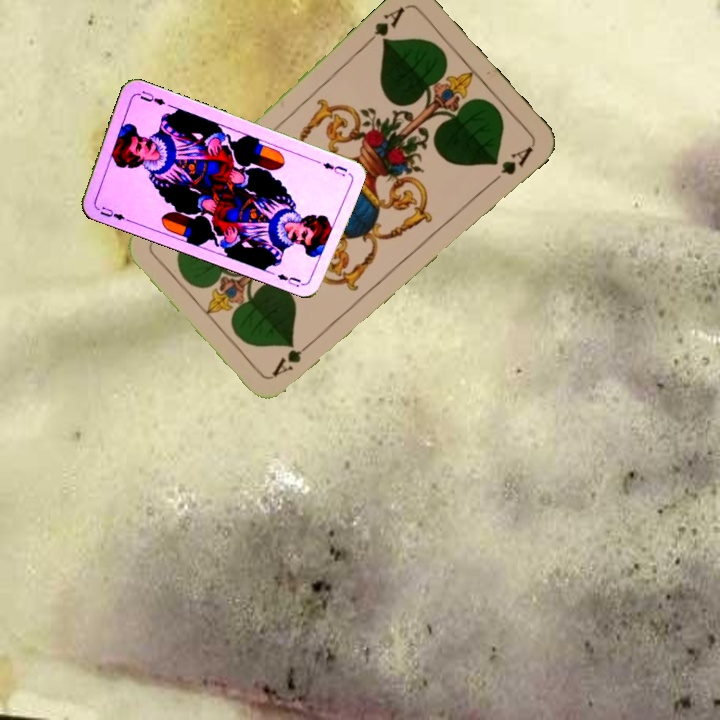EU: (96, 202, 131, 224), (318, 158, 350, 179)
GA: (360, 3, 408, 49), (268, 335, 317, 380)
